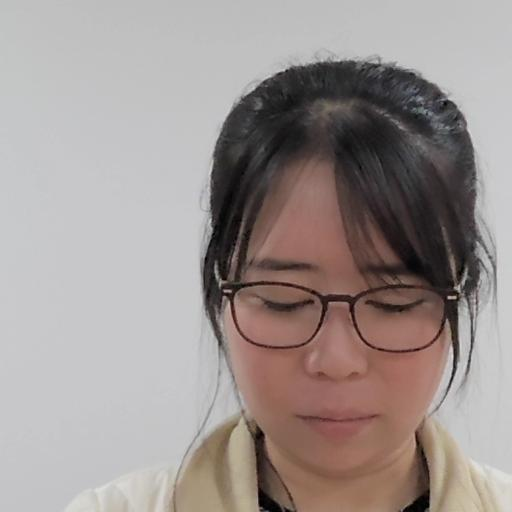no_glasses: (200, 52, 490, 470)
